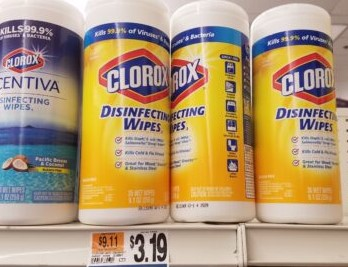Wipes: (75, 1, 173, 228), (249, 2, 346, 226), (167, 1, 259, 225), (1, 2, 88, 228)
